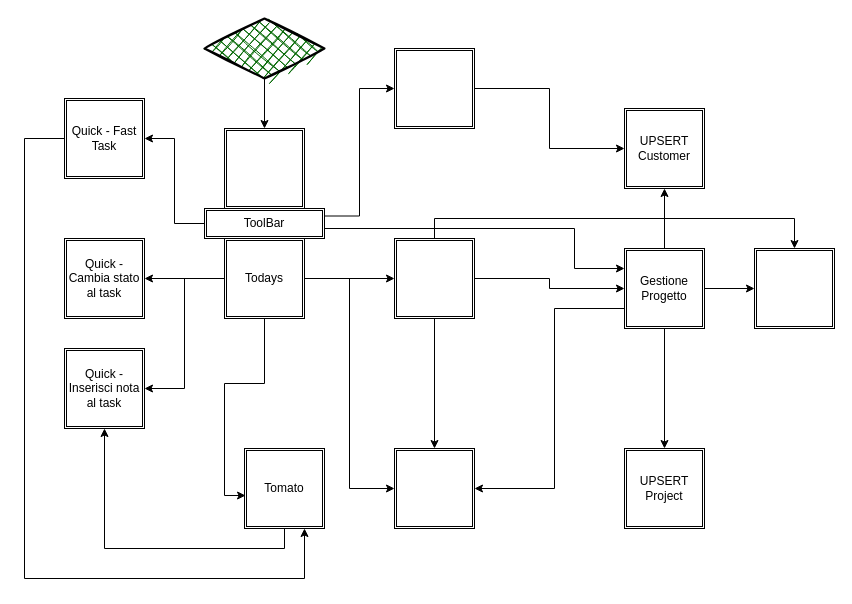
This 852x604 diagram has some shape labels left out. Here are the shapes that lost their labels. From the top down, the box of each, then its label:
(394, 48, 474, 128): Gestione Cliente
(224, 128, 304, 208): Titolo
(394, 238, 474, 318): Gestione Task
(754, 248, 834, 328): Quick - Add Today
(394, 448, 474, 528): UPSERT Task
